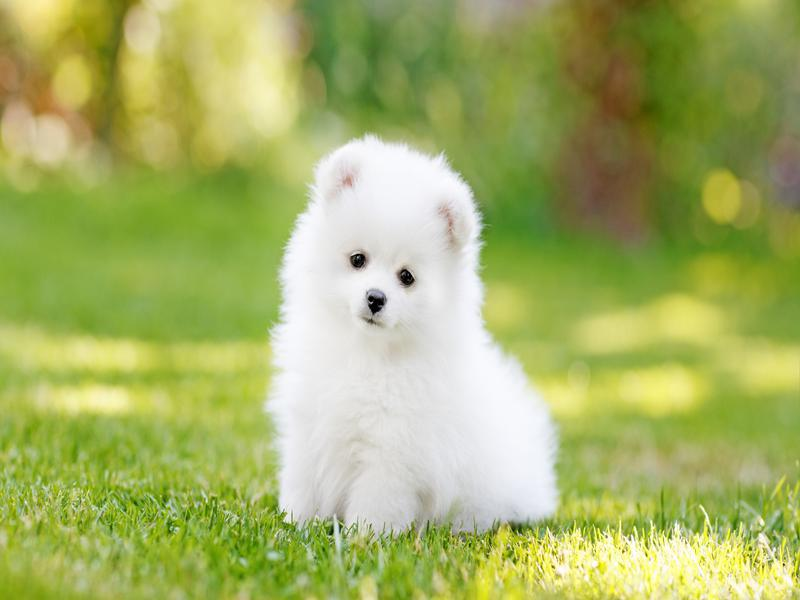dog: (262, 130, 574, 539)
